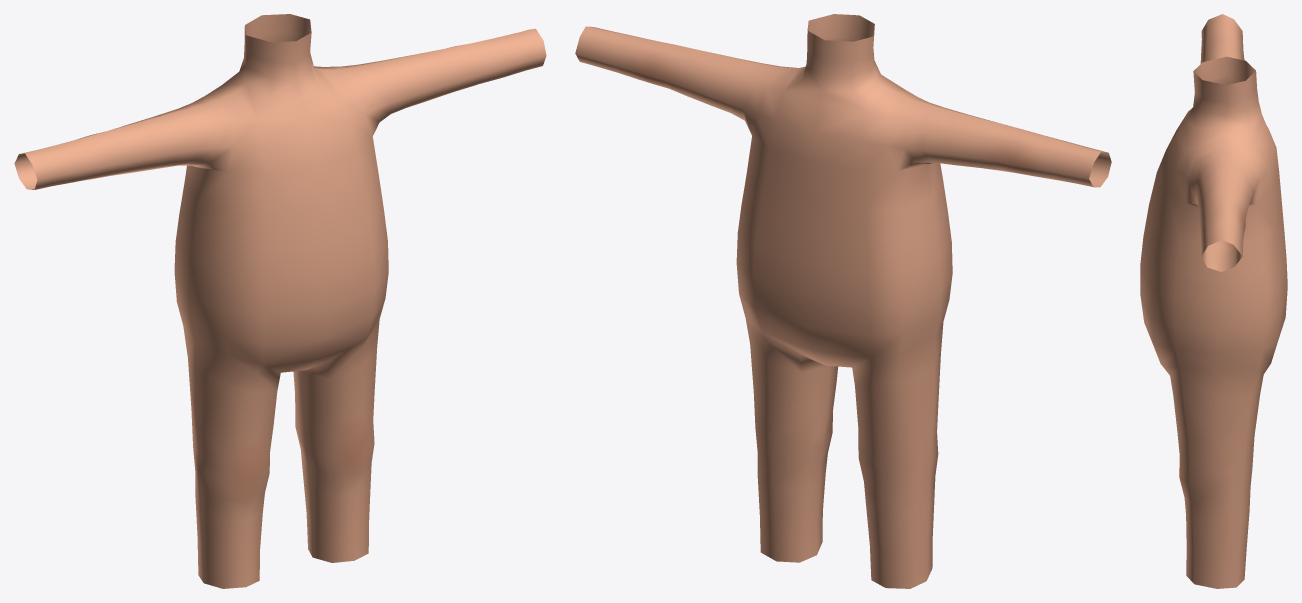
File: Body_Yellow_4.fbx
The picture shows the model from 3 angles, left to right: view 1: azimuth 30°, elevation 25°; view 2: azimuth 150°, elevation 25°; view 3: azimuth 270°, elevation 25°; orthographic projection. The views are drawn at different scales.
Visible parts, largest first — view 1: Body_Yellow_4; view 2: Body_Yellow_4; view 3: Body_Yellow_4.
Part boxes in pixels (<box>): Body_Yellow_4: <box>14,14,546,588</box>; Body_Yellow_4: <box>575,14,1111,588</box>; Body_Yellow_4: <box>1140,14,1287,588</box>.
Bounding box in the file's own units: 95.86 × 95.87 × 26.46.
